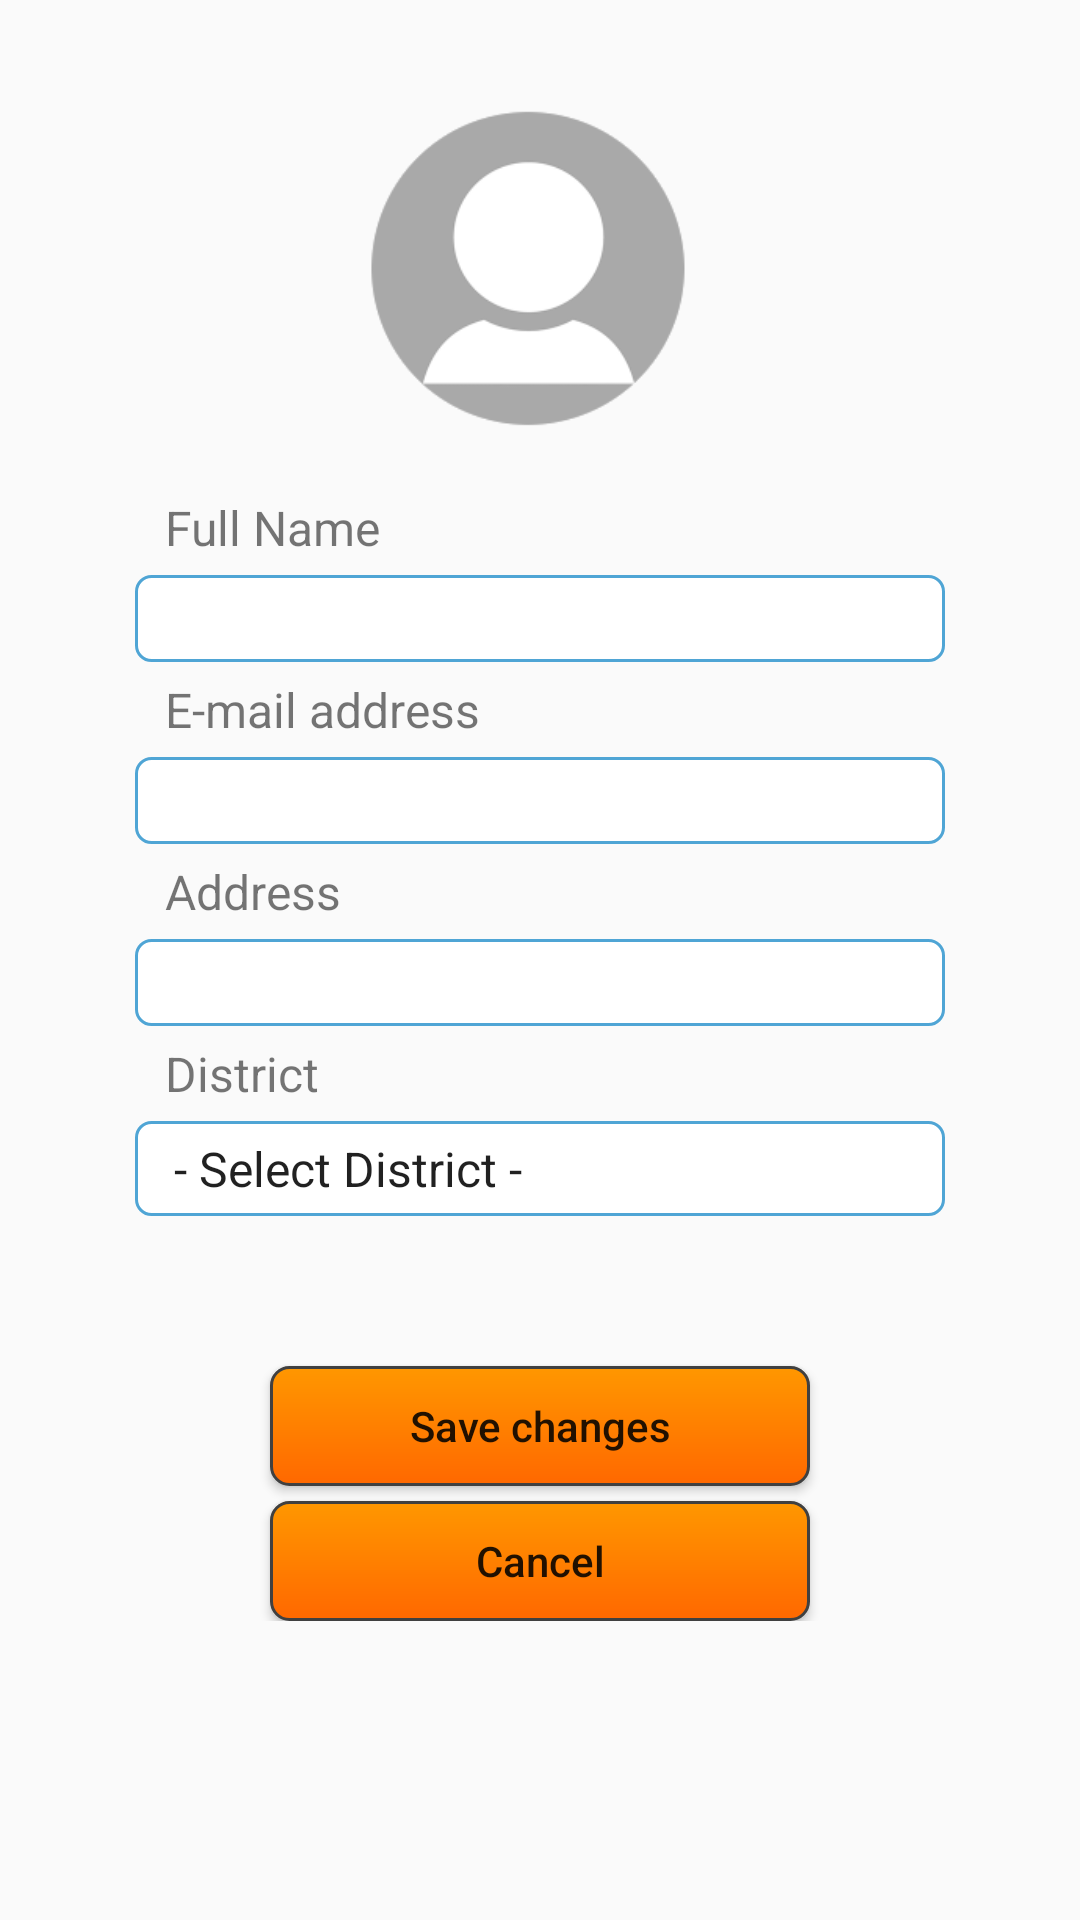

Named icons in this screenshot (1080×1920) and their centers, point (x, y):
user: point (528, 268)
